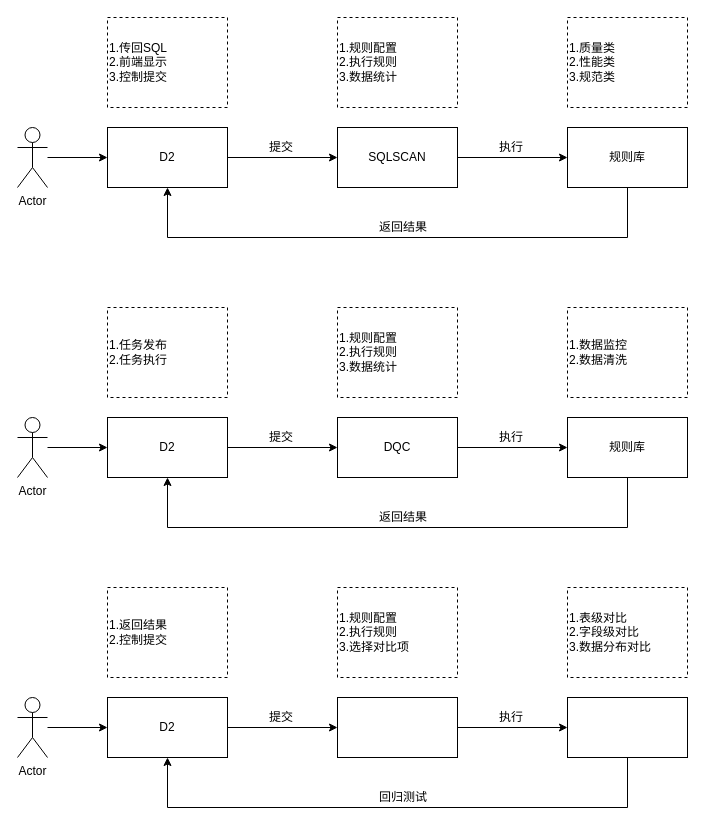
The diagram is 705 pixels wide and 833 high, and some of its shapes have lost their labels. Here are the shapes that lost their labels. From the top down, the box of each, then its label:
(336, 696, 458, 758): 在彼岸
(566, 696, 688, 758): 对比项目
